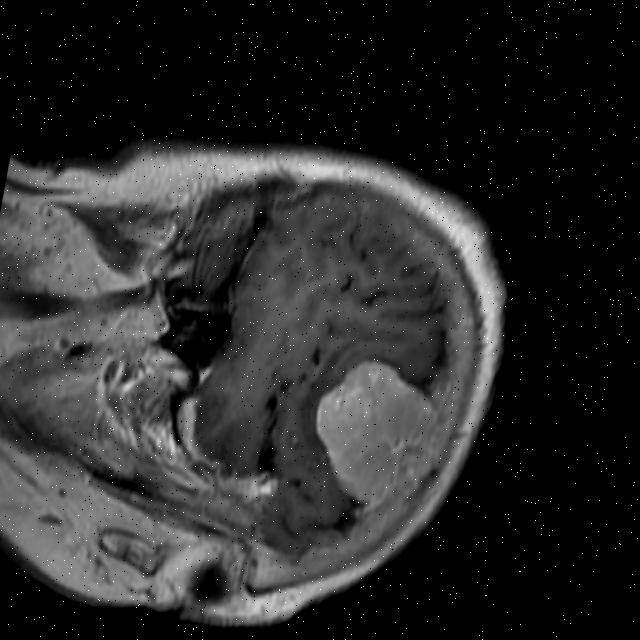Meningioma: (298, 350, 436, 514)
